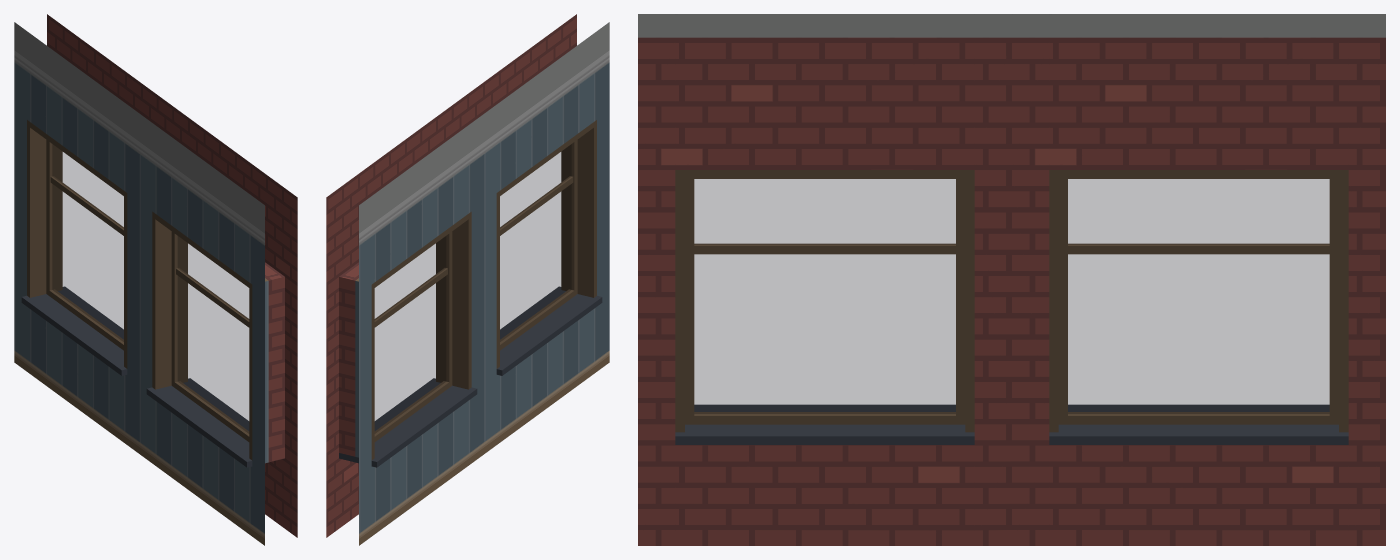
File: SM_window_10.glb
3 views of the same model, side by side, from view 1: azimuth 30°, elevation 25°; view 2: azimuth 150°, elevation 25°; view 3: azimuth 270°, elevation 25° (orthographic). The views are drawn at different scales.
Parts seen in each view (by area): view 1: SM_window_10; view 2: SM_window_10; view 3: SM_window_10.
Boxes of the visible parts, x1,y1,x2,y2 form: SM_window_10: (14,14,297,545); SM_window_10: (326,14,609,545); SM_window_10: (638,14,1385,545).
Size of the model in its own units: 0.4 by 3 by 4.
4 materials, 3 textured.
